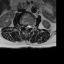CCS_normal: (26, 23, 27, 31)
LFS_normal: (30, 23, 32, 29)
LLS_normal: (28, 23, 30, 30)
RFS_stenosis: (22, 23, 24, 29)
RLS_severe_stenosis: (24, 24, 26, 30)
